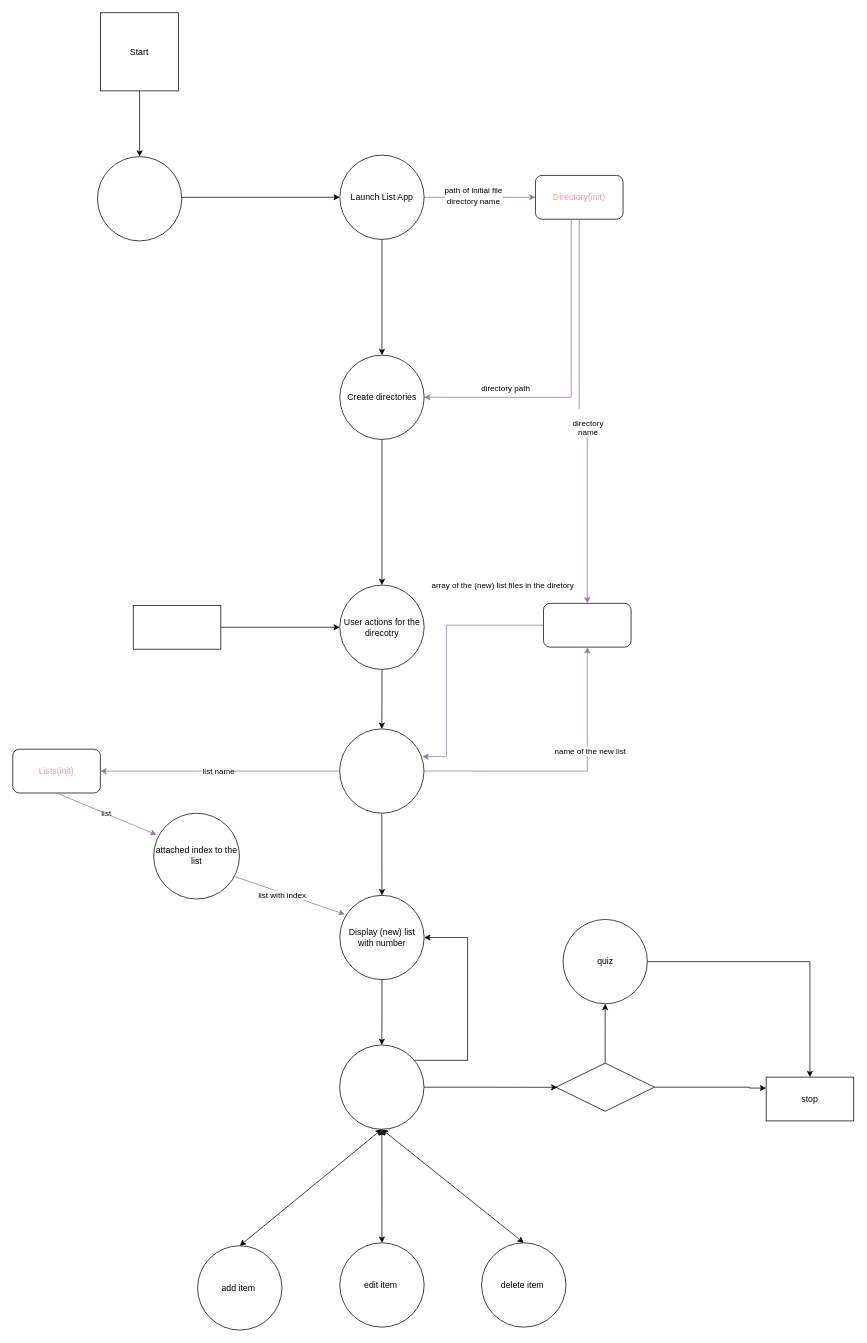
Image size: 867x1343. Some labels were removed from this diagram. Each missing label, with the centre of its shape:
Choose or add lists: point (381, 770)
quiz?: point (604, 1086)
refreshed cashe files: point (587, 625)
User: point (176, 627)
User actions for the list: point (381, 1086)
Welcome: point (139, 198)
